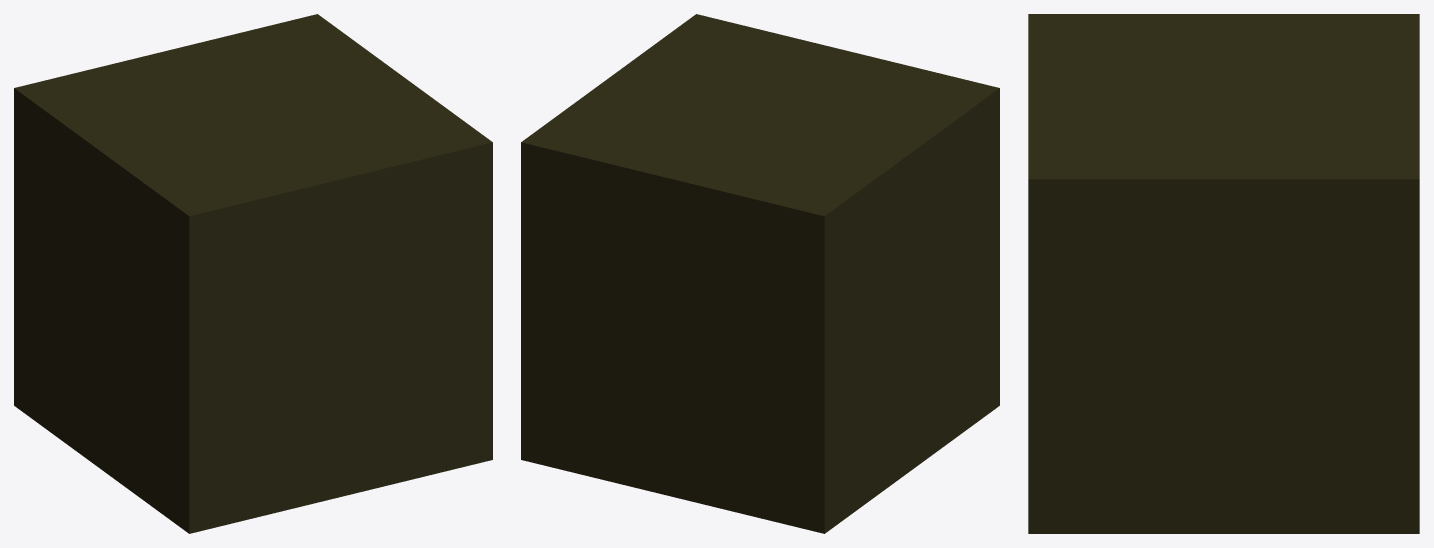
File: Unity Export Big tree.obj
The picture shows the model from 3 angles, left to right: view 1: azimuth 30°, elevation 25°; view 2: azimuth 150°, elevation 25°; view 3: azimuth 270°, elevation 25°; orthographic projection. The views are drawn at different scales.
Bounding box in the file's own units: 1 × 1 × 1.
